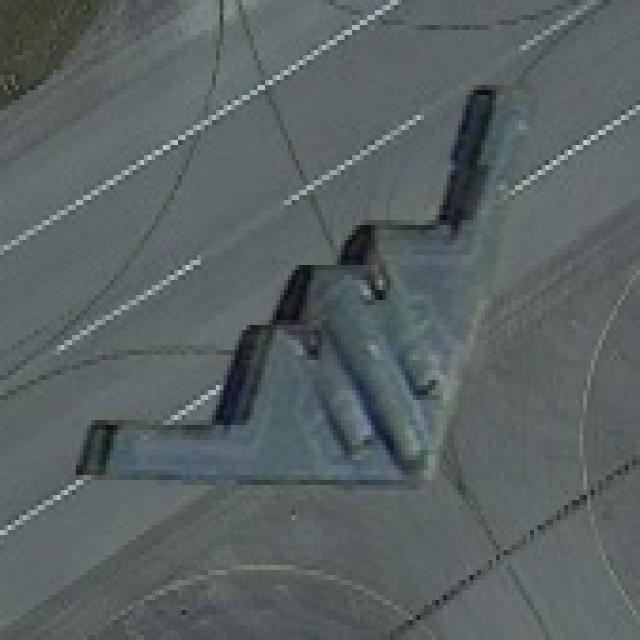B-2_TopDown: (63, 69, 534, 496)
